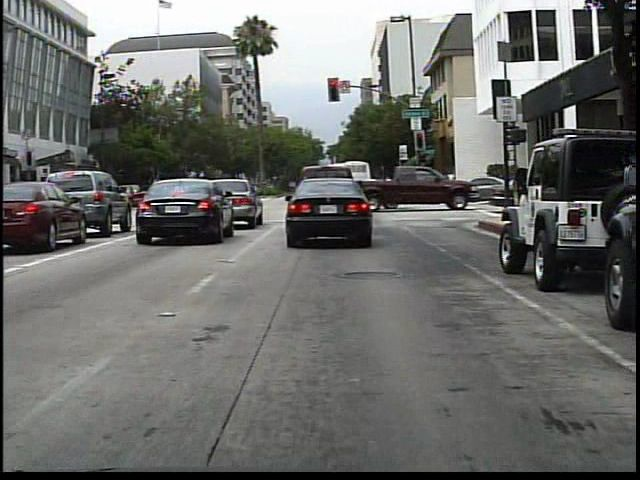person: (428, 166, 443, 198), (444, 167, 460, 195)
